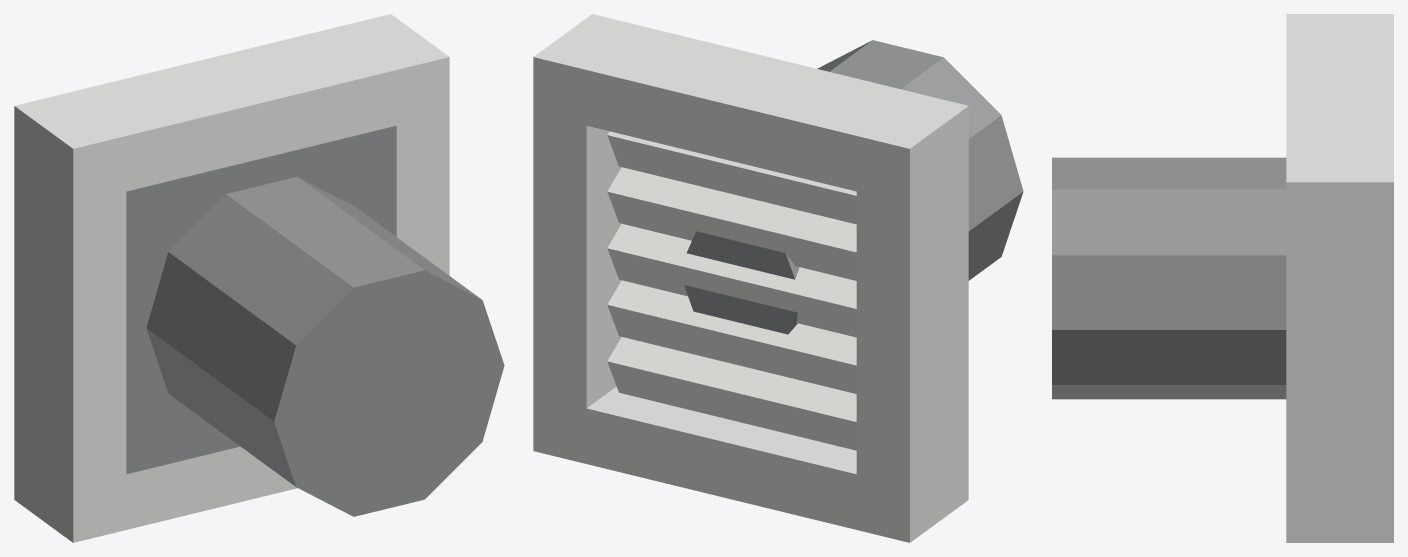
The model's file is SM_LPI_Util_ExtractFan_01.fbx.
3 renders of one model, left to right at view 1: azimuth 30°, elevation 25°; view 2: azimuth 150°, elevation 25°; view 3: azimuth 270°, elevation 25°, orthographic. The views are drawn at different scales.
Visible parts, largest first — view 1: SM_LPI_Util_ExtractFan_01; view 2: SM_LPI_Util_ExtractFan_01; view 3: SM_LPI_Util_ExtractFan_01.
Boxes of the visible parts, box(x1,y1,x2,y2) form: SM_LPI_Util_ExtractFan_01: box(14, 14, 504, 542); SM_LPI_Util_ExtractFan_01: box(533, 14, 1023, 542); SM_LPI_Util_ExtractFan_01: box(1052, 14, 1393, 542).
Bounding box in the file's own units: 0.17 × 0.17 × 0.146.
